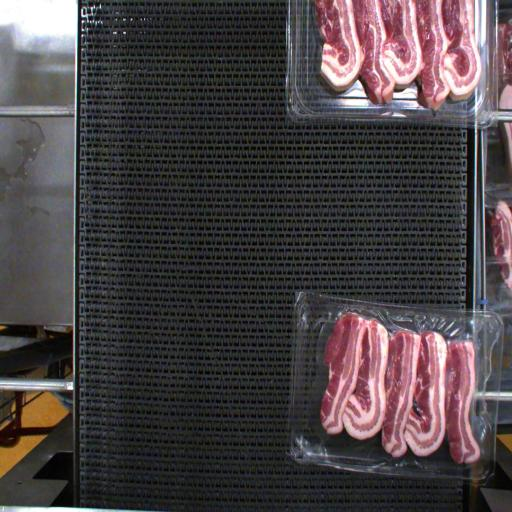unsealed: (309, 296, 491, 458)
